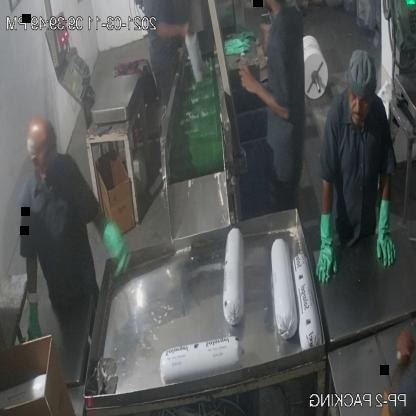glove: (95, 214, 134, 286), (310, 210, 339, 291), (370, 194, 398, 275), (16, 286, 43, 358)
no_glove: (240, 58, 292, 126), (152, 14, 193, 49)
